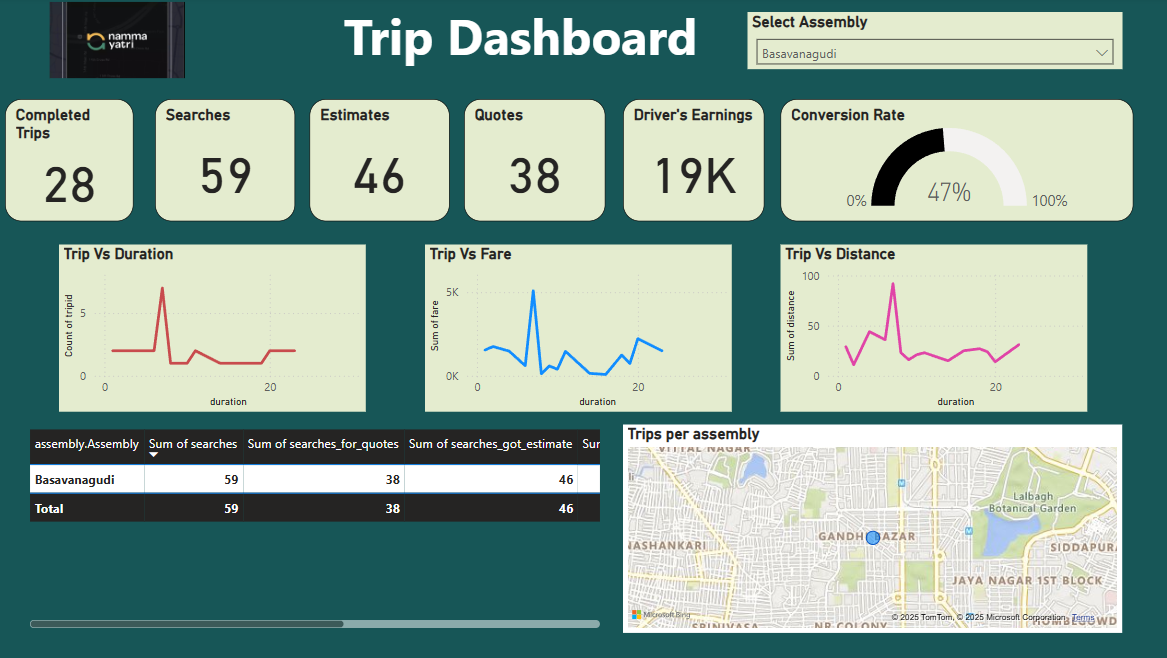

The dashboard page shown, as its layout file describes it:
{"tool":"powerbi","page":{"name":"Page 1","canvas":[1280,720],"ordinal":0},"visuals":[{"type":"card","title":"Completed Trips","fields":{"Values":["Sum(trip_details.end_ride)"]},"box":[15.5,110.3,139.7,132.8],"z":0},{"type":"card","title":"Searches","fields":{"Values":["Sum(trip_details.searches)"]},"box":[179.3,110.3,151.7,132.8],"z":1000},{"type":"card","title":"Estimates","fields":{"Values":["Sum(trip_details.searches_got_estimate)"]},"box":[346.6,110.3,151.7,132.8],"z":2000},{"type":"card","title":"Quotes","fields":{"Values":["Sum(trip_details.searches_for_quotes)"]},"box":[513.8,110.3,153.4,132.8],"z":3000},{"type":"card","title":"Driver''s Earnings","fields":{"Values":["Sum(trips.fare)"]},"box":[686.2,110.3,153.4,132.8],"z":4000},{"type":"gauge","fields":{"Y":["assembly.Conversion Rate"]},"box":[856.9,110.3,382.8,132.8],"z":5000},{"type":"lineChart","title":"Trip Vs Duration","fields":{"Category":["trips.duration"],"Y":["CountNonNull(trips.tripid)"]},"box":[74.1,269,332.8,181],"z":6000},{"type":"lineChart","title":"Trip Vs Fare","fields":{"Category":["trips.duration"],"Y":["Sum(trips.fare)"]},"box":[472.4,269,332.8,181],"z":7000},{"type":"lineChart","title":"Trip Vs Distance","fields":{"Category":["trips.duration"],"Y":["Sum(trips.distance)"]},"box":[856.9,269,332.8,181],"z":8000},{"type":"tableEx","fields":{"Values":["Merge2.assembly.Assembly","Sum(Merge2.searches)","Sum(Merge2.searches_for_quotes)","Sum(Merge2.searches_got_estimate)","Sum(Merge2.searches_got_quotes)","Sum(Merge2.trips.fare)","Sum(Merge2.trips.distance)","assembly.Conversion Rate"]},"box":[37.9,463.8,629.3,225.9],"z":8001},{"type":"map","title":"Trips per assembly","fields":{"Category":["Merge2.assembly.Assembly"],"Size":["CountNonNull(Merge2.tripid)"]},"box":[686.2,463.8,541.4,225.9],"z":8002},{"type":"image","box":[0,0,275.9,93.1],"z":8003},{"type":"textbox","box":[294.8,0,562.1,93.1],"z":8004},{"type":"slicer","title":"Select Assembly","fields":{"Values":["Merge2.assembly.Assembly"]},"box":[820.7,15.5,406.9,62.1],"z":8005}]}

Visuals, with their boxes in screenshot pixels (x1, y1, x2, y2), scaled from the page's 1280x720 canvas onto the 1167x658 screenshot:
"Completed Trips" card: 14, 101, 141, 222
"Searches" card: 163, 101, 302, 222
"Estimates" card: 316, 101, 454, 222
"Quotes" card: 468, 101, 608, 222
"Driver''s Earnings" card: 626, 101, 765, 222
gauge - assembly.Conversion Rate: 781, 101, 1130, 222
"Trip Vs Duration" lineChart: 68, 246, 371, 411
"Trip Vs Fare" lineChart: 431, 246, 734, 411
"Trip Vs Distance" lineChart: 781, 246, 1085, 411
tableEx - Merge2.assembly.Assembly x Sum(Merge2.searches): 35, 424, 608, 630
"Trips per assembly" map: 626, 424, 1119, 630
image: 0, 0, 252, 85
textbox: 269, 0, 781, 85
"Select Assembly" slicer: 748, 14, 1119, 71
